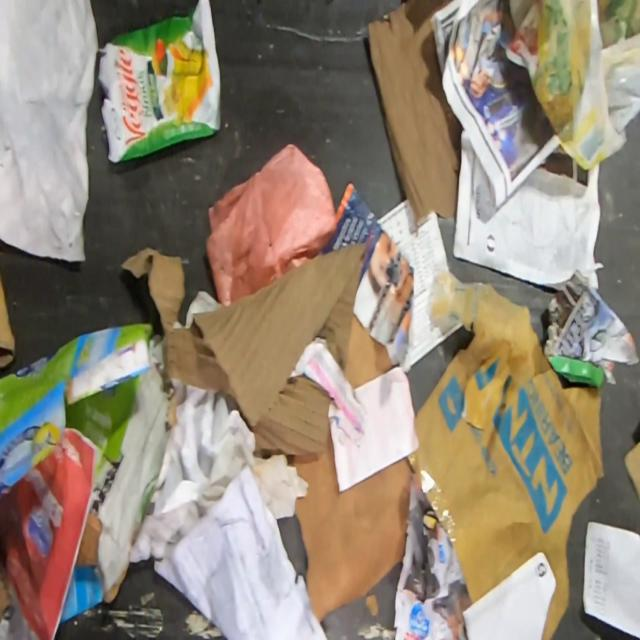cardboard: (412, 267, 600, 639), (121, 234, 393, 456), (0, 322, 152, 493), (292, 421, 408, 620), (368, 0, 463, 224), (0, 274, 18, 367), (623, 444, 640, 498)
soft_plastic: (508, 1, 640, 174), (204, 143, 334, 304), (95, 2, 223, 163)
